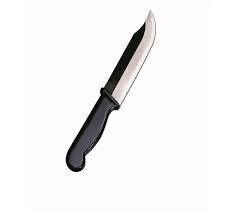Knife: (65, 8, 156, 172)
